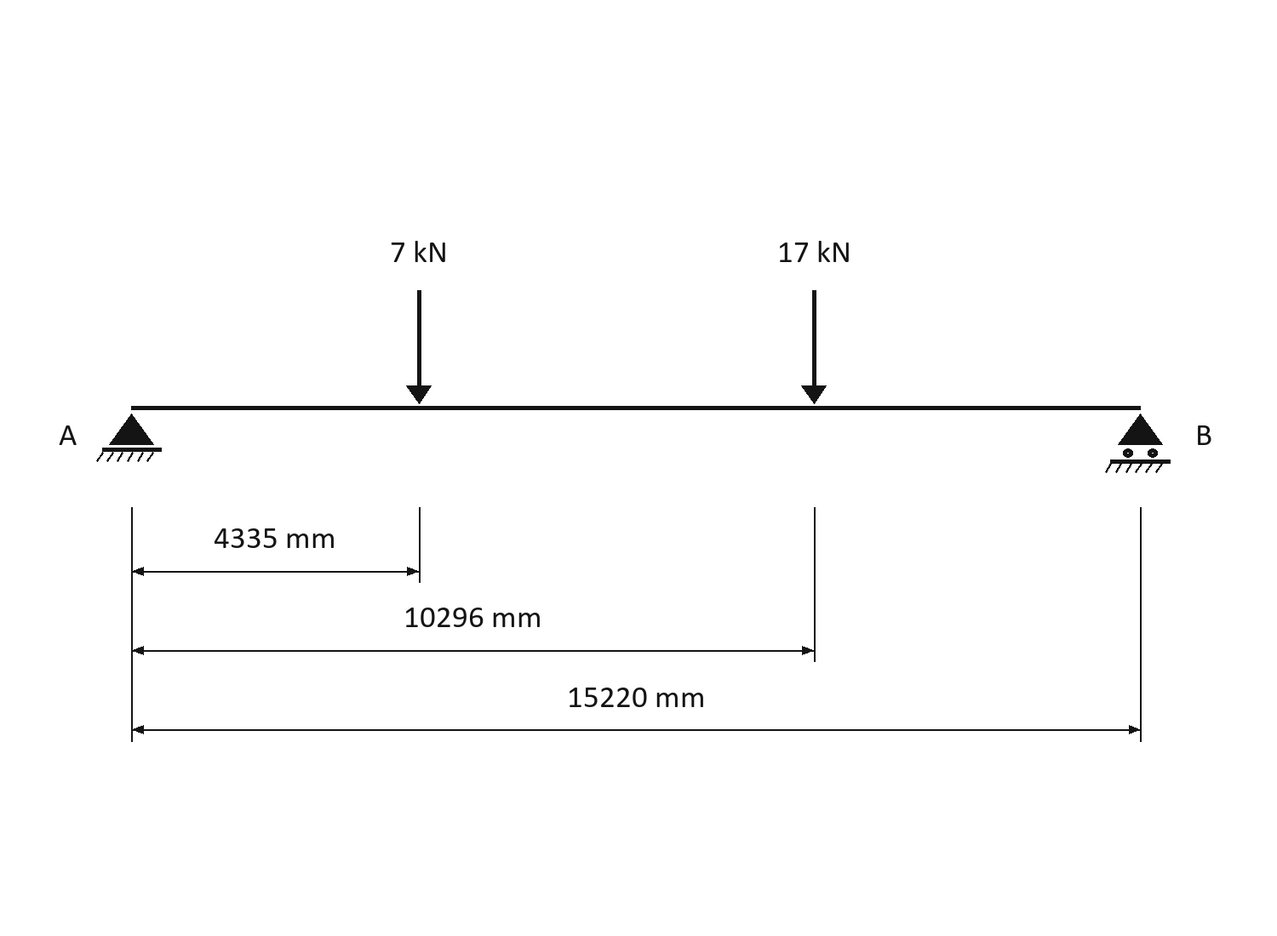pin_support: (96, 414, 162, 462)
point_load: (406, 290, 432, 404), (801, 290, 827, 404)
roller_support: (1105, 414, 1171, 473)
